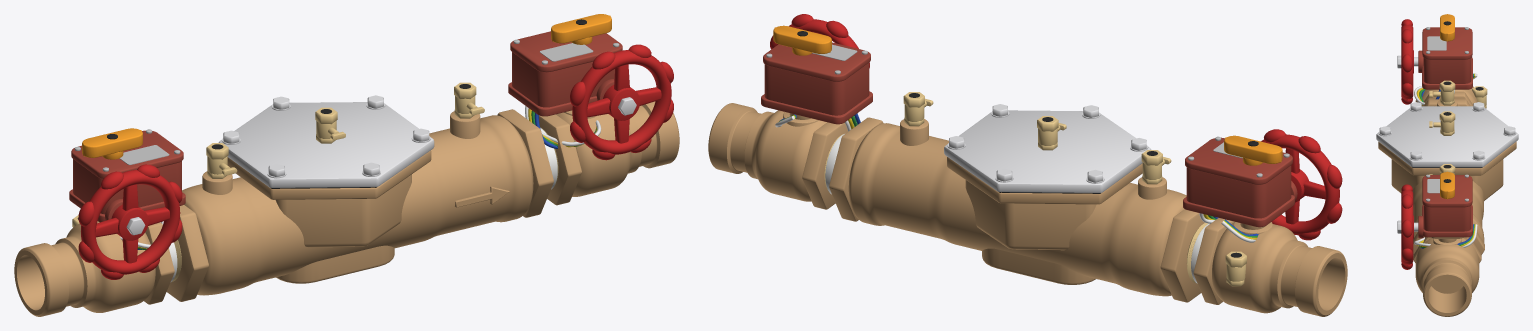
File: 2000B-FP_v3_vntana.glb
3 views of the same model, side by side, from view 1: azimuth 30°, elevation 25°; view 2: azimuth 150°, elevation 25°; view 3: azimuth 270°, elevation 25° (orthographic). The views are drawn at different scales.
Parts seen in each view (by area): view 1: Body_main, Cover, ShutoffValve_Inlet, Handwheel_Outlet, Handwheel_Inlet, ShutoffValve_Outlet, Gearbox_Outlet, Gearbox_Inlet, CoverBolts, Indicator_Inlet, Indicator_Outlet, TestCock_4 (+4 smaller); view 2: Body_main, Cover, ShutoffValve_Inlet, ShutoffValve_Outlet, Gearbox_Inlet, Gearbox_Outlet, Handwheel_Inlet, CoverBolts, Indicator_Outlet, Indicator_Inlet, Handwheel_Outlet, TestCock_4 (+3 smaller); view 3: Cover, ShutoffValve_Outlet, Body_main, Gearbox_Outlet, Gearbox_Inlet, Handwheel_Inlet, Handwheel_Outlet, CoverBolts, ShutoffValve_Inlet, TestCock_2, TestCock_3, Indicator_Inlet (+8 smaller).
Boxes of the visible parts, box(x1,y1,x2,y2) form: Body_main: box(166, 109, 553, 301); Cover: box(218, 102, 434, 187); ShutoffValve_Inlet: box(14, 221, 174, 316); Handwheel_Outlet: box(570, 44, 673, 160); Handwheel_Inlet: box(78, 164, 182, 279); ShutoffValve_Outlet: box(539, 101, 679, 205); Gearbox_Outlet: box(508, 31, 622, 116); Gearbox_Inlet: box(69, 130, 185, 222); CoverBolts: box(222, 95, 430, 178); Indicator_Inlet: box(82, 128, 142, 159); Indicator_Outlet: box(551, 14, 611, 44); TestCock_4: box(454, 82, 484, 118); Body_main: box(829, 117, 1205, 302); Cover: box(944, 110, 1151, 192); ShutoffValve_Inlet: box(1193, 218, 1347, 316); ShutoffValve_Outlet: box(708, 103, 847, 209); Gearbox_Inlet: box(1183, 137, 1297, 227); Gearbox_Outlet: box(761, 42, 872, 124); Handwheel_Inlet: box(1261, 129, 1342, 240); CoverBolts: box(947, 104, 1148, 183); Indicator_Outlet: box(773, 25, 831, 55); Indicator_Inlet: box(1224, 135, 1282, 165); Handwheel_Outlet: box(770, 14, 869, 68); TestCock_4: box(903, 92, 933, 126); Cover: box(1376, 106, 1518, 167); ShutoffValve_Outlet: box(1413, 237, 1481, 316); Body_main: box(1378, 99, 1516, 254); Gearbox_Outlet: box(1418, 175, 1472, 238); Gearbox_Inlet: box(1418, 27, 1472, 89); Handwheel_Inlet: box(1401, 19, 1413, 104); Handwheel_Outlet: box(1401, 184, 1413, 269); CoverBolts: box(1378, 102, 1516, 160); ShutoffValve_Inlet: box(1415, 86, 1477, 106); TestCock_2: box(1429, 80, 1455, 105); TestCock_3: box(1429, 111, 1455, 135); Indicator_Inlet: box(1440, 14, 1454, 41).
Bounding box in the file's own units: 0.337 × 0.0902 × 0.0955.
